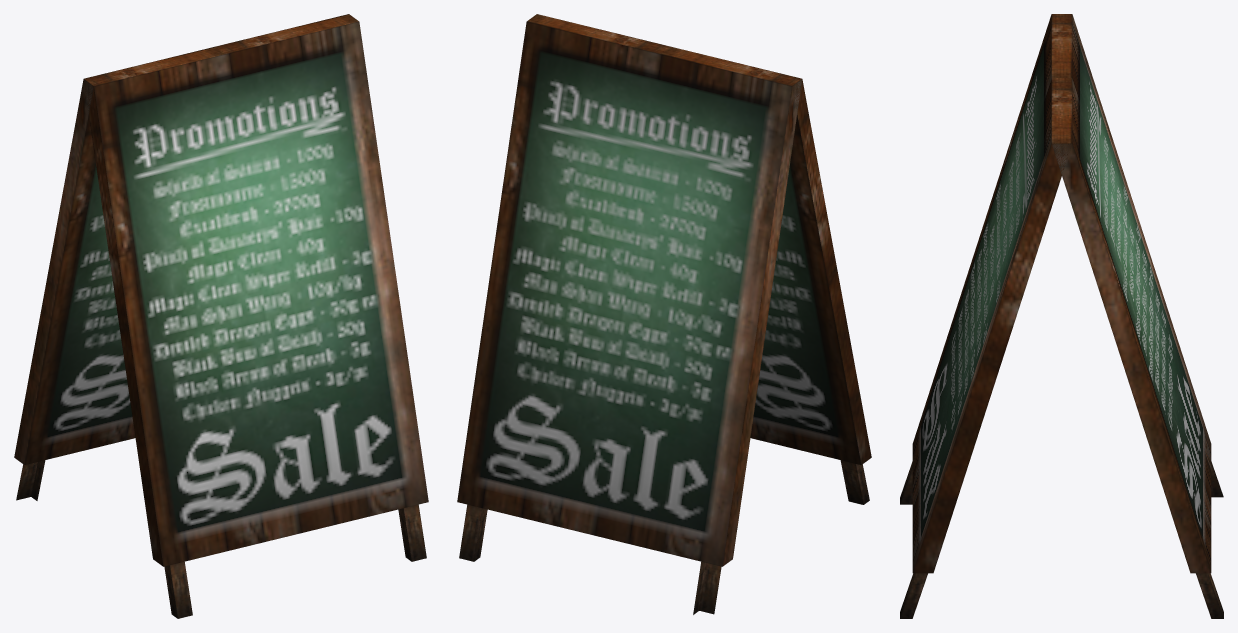
File: Signboard3_atlas.fbx
The picture shows the model from 3 angles, left to right: view 1: azimuth 30°, elevation 25°; view 2: azimuth 150°, elevation 25°; view 3: azimuth 270°, elevation 25°; orthographic projection.
Visible parts, largest first — view 1: polySurface15; view 2: polySurface15; view 3: polySurface15.
Part boxes in pixels (<box>): polySurface15: <box>14,14,428,618</box>; polySurface15: <box>457,14,871,614</box>; polySurface15: <box>900,14,1223,618</box>.
Size of the model in its own units: 0.8848 by 1.53 by 0.9343.
